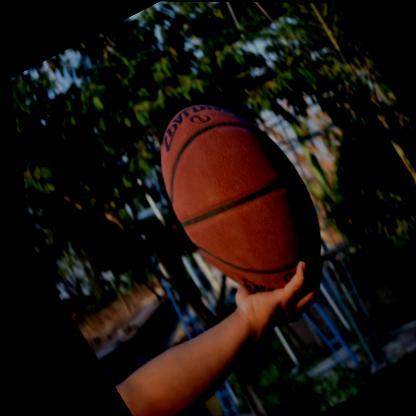basketball: (118, 78, 349, 313)
